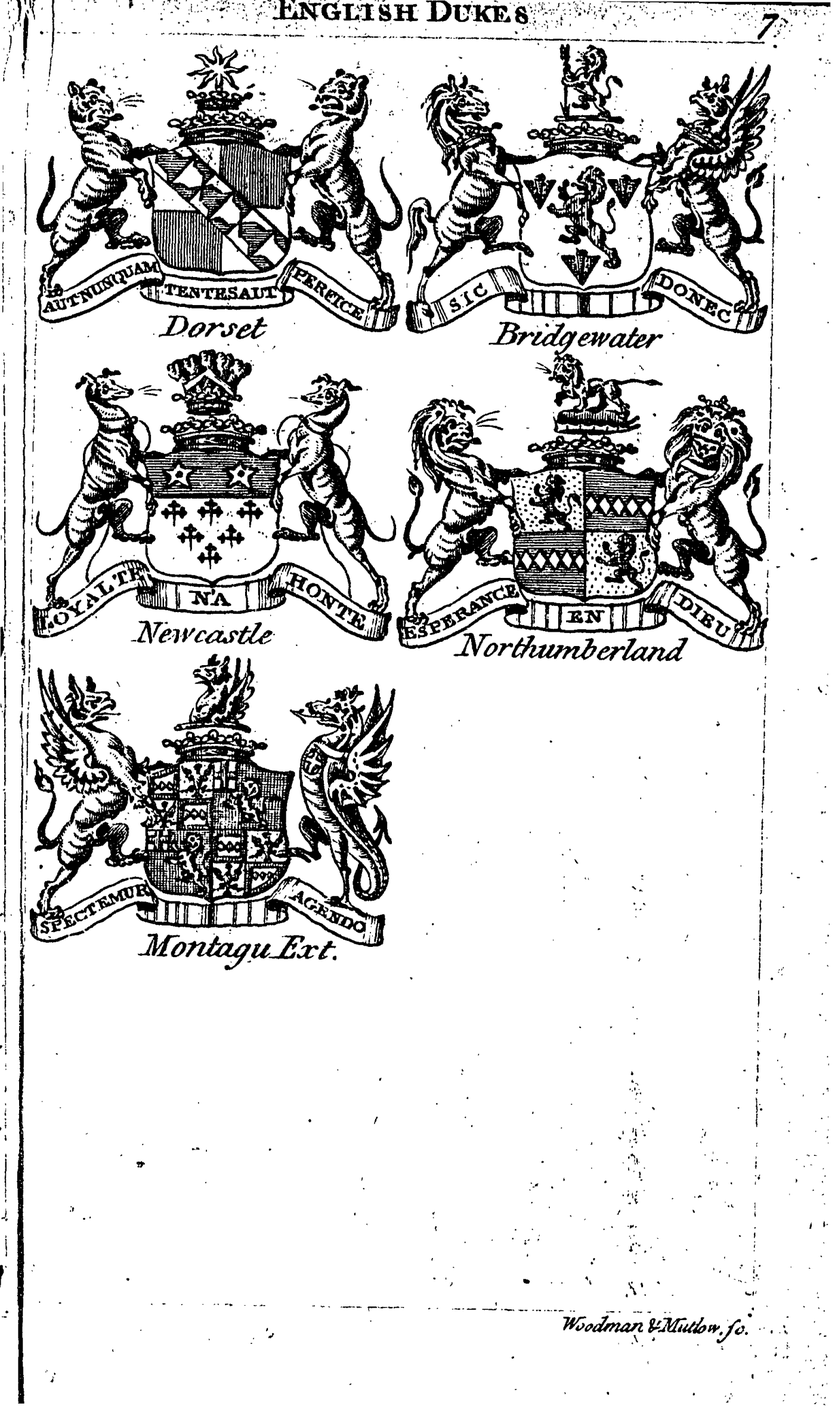coat_of_arms: (384, 353, 777, 682), (402, 41, 771, 361), (28, 654, 399, 969), (36, 34, 403, 351), (34, 345, 384, 654)
